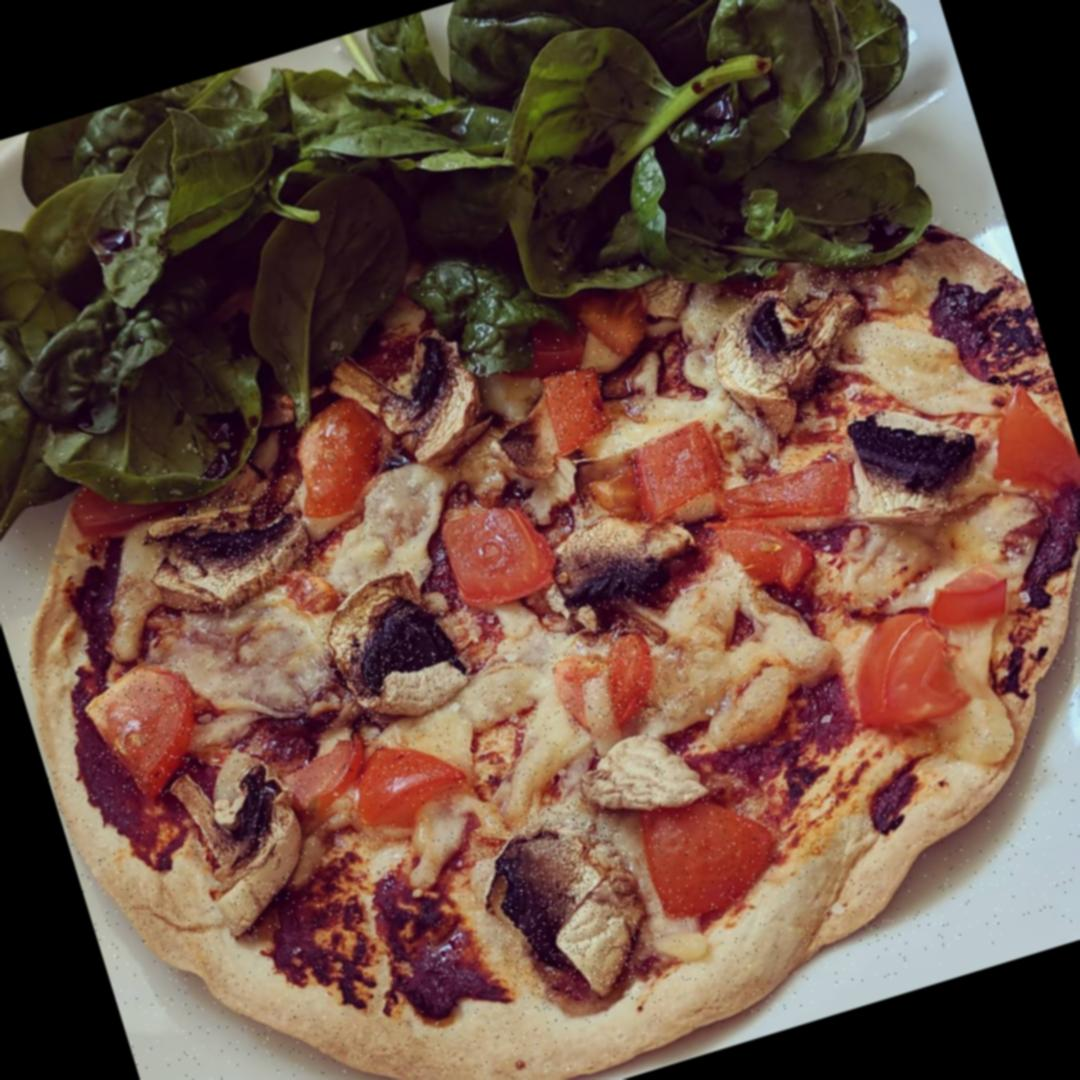Mushroom: (694, 248, 918, 455), (467, 790, 662, 1016), (166, 746, 328, 946), (308, 556, 477, 729), (141, 475, 324, 626), (840, 389, 992, 538), (536, 492, 704, 624)
Pizza: (0, 193, 1080, 1080)
Tomatoes: (824, 558, 1046, 746), (618, 762, 796, 931), (280, 718, 472, 854), (69, 652, 224, 813), (436, 483, 570, 623), (961, 368, 1080, 524), (700, 448, 866, 556), (548, 620, 681, 744), (288, 397, 404, 520), (698, 500, 823, 610), (622, 418, 742, 530), (540, 360, 622, 454)
